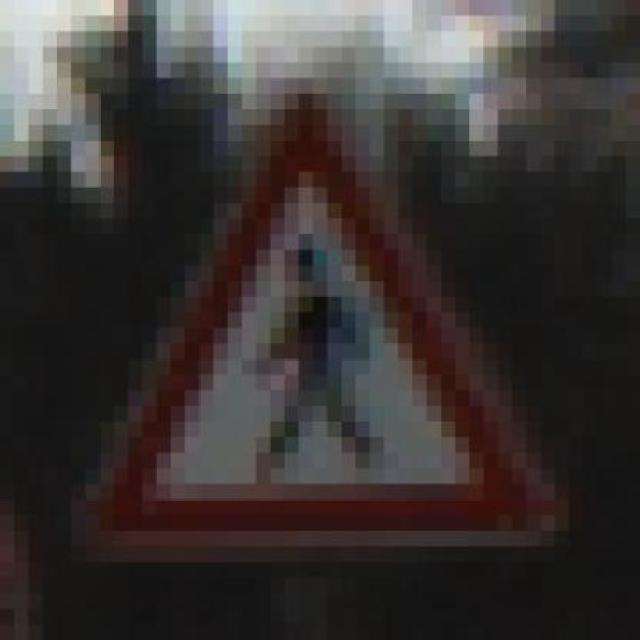Pedestrian Crossing: (57, 93, 569, 562)
